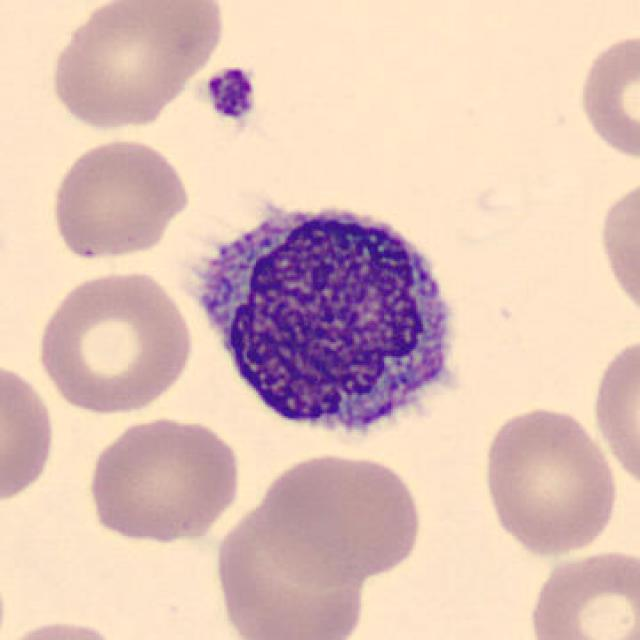Monocyte: (179, 187, 473, 460)
Platelets: (201, 64, 258, 125)
RBC: (31, 266, 198, 418), (250, 448, 427, 587), (44, 0, 226, 134), (477, 402, 622, 559), (82, 412, 245, 544), (210, 505, 364, 640), (46, 134, 194, 263), (522, 546, 640, 640), (572, 28, 640, 164), (0, 356, 60, 509), (588, 330, 640, 495), (594, 171, 640, 326), (0, 613, 131, 640)
